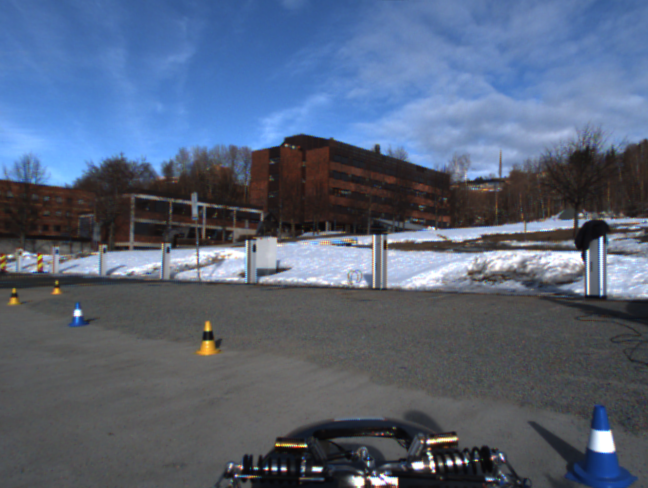cone-small-blue: (564, 401, 639, 488), (68, 301, 89, 327)
cone-small-yellow: (194, 319, 222, 356), (7, 287, 22, 306), (49, 279, 62, 295)
